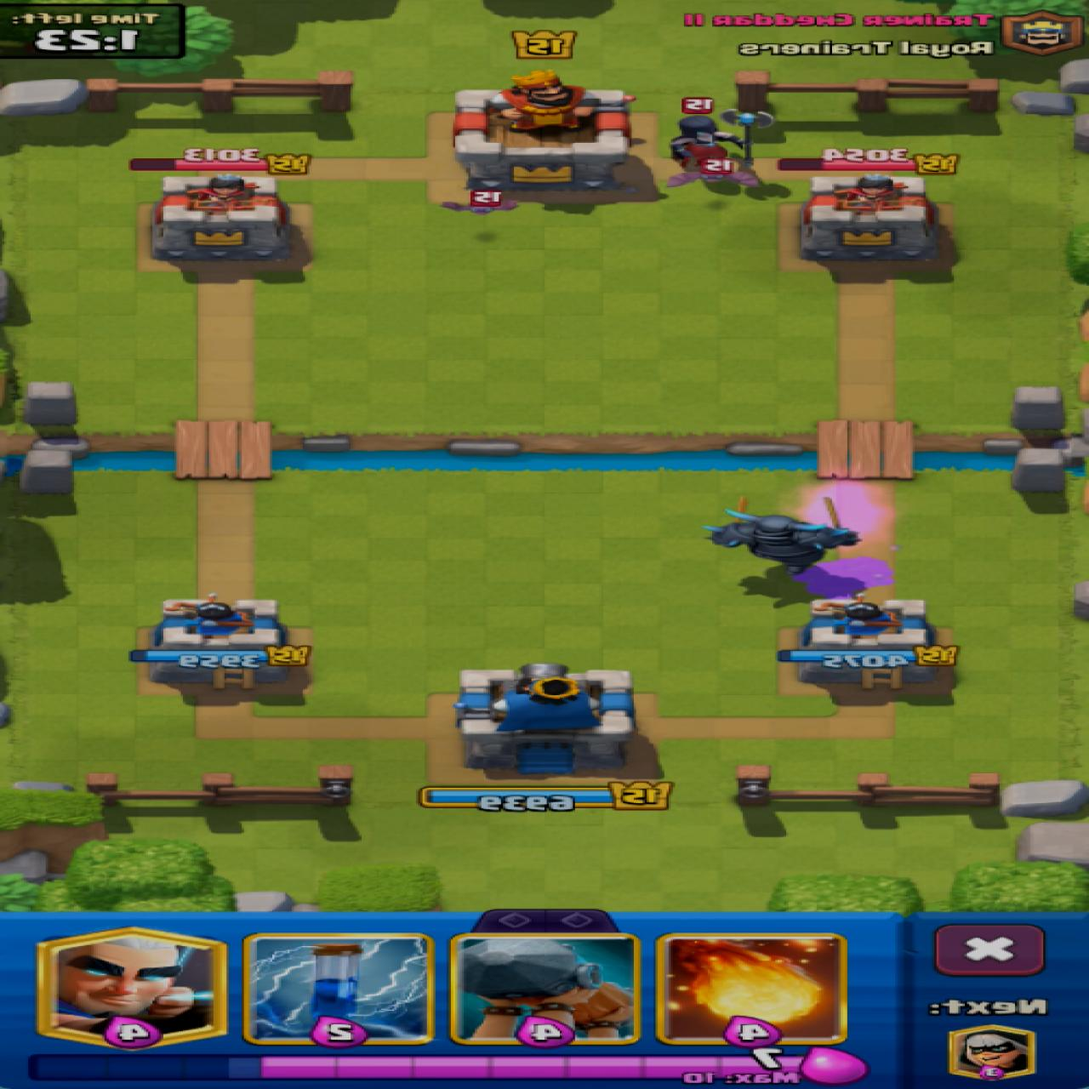Enemy-Bat: (442, 191, 518, 214), (669, 171, 758, 186)
Enemy-KingTower: (455, 70, 632, 194)
Enemy-NightWitch: (673, 111, 773, 183)
Enemy-PrincessTower: (802, 174, 939, 260), (155, 174, 290, 261)
